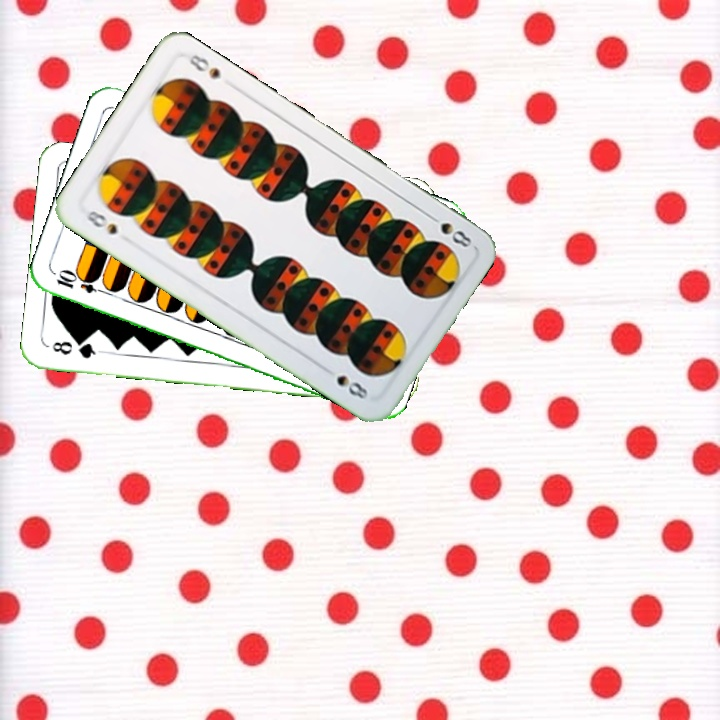E10: (52, 268, 111, 297)
G8: (48, 337, 98, 362)
S8: (421, 209, 474, 251), (81, 206, 120, 238)
